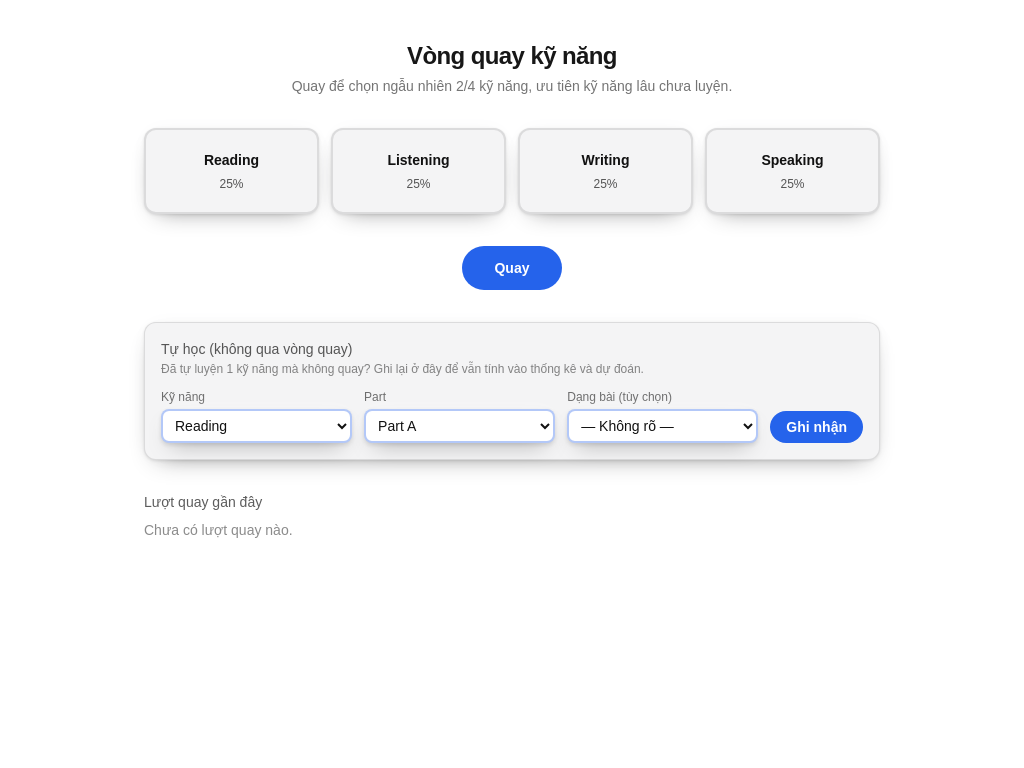
Test: Spinner › cascades into revealing question-type draws after a part with questionTypeRollCount > 0 settles
Click the button "Quay" at (512, 268), box [462, 246, 562, 290]
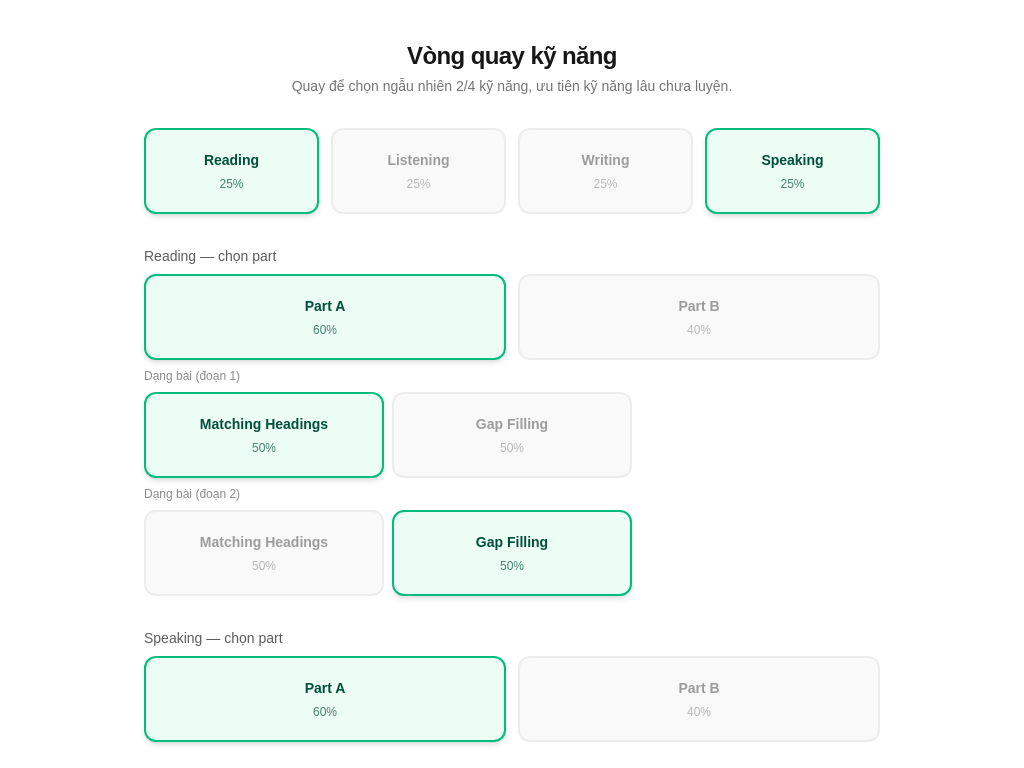
Expected: the heading "Dạng bài (đoạn 1)" is shown, [144, 369, 240, 383]
Expected: the heading "Dạng bài (đoạn 2)" is shown, [144, 487, 240, 501]
Expected: the text "Matching Headings" below "(đoạn 1)" is shown, [200, 416, 328, 432]
